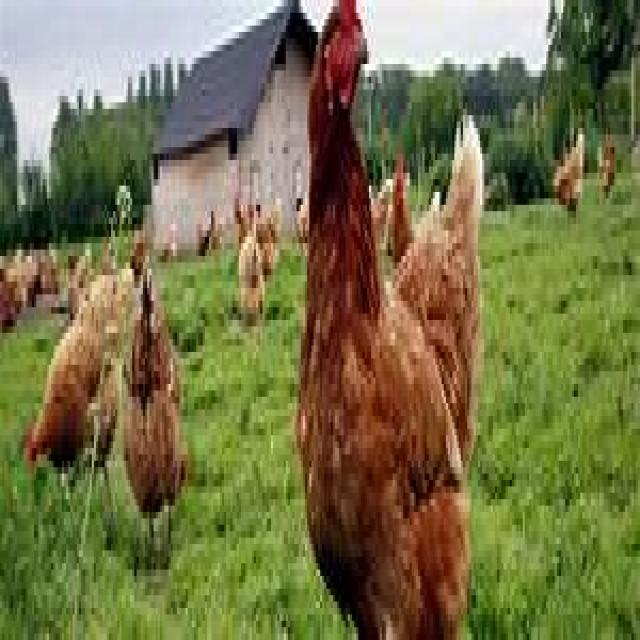chicken: (292, 0, 484, 634), (550, 121, 584, 218), (596, 128, 614, 198)
